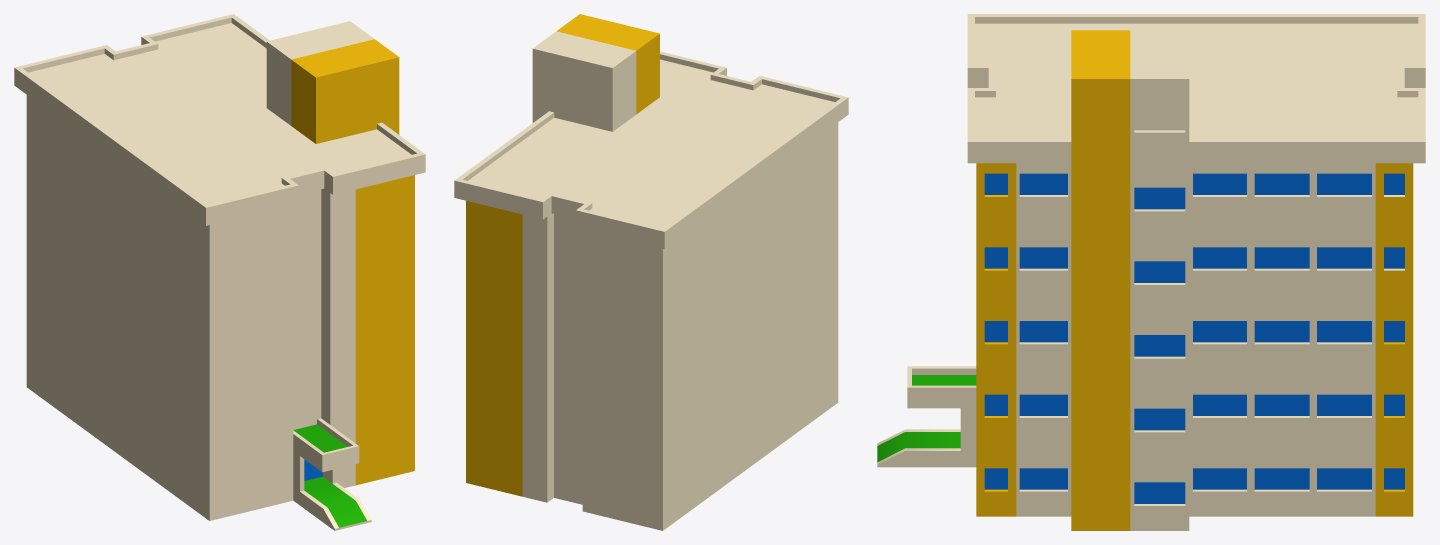
File: 학생회관.fbx
3 renders of one model, left to right at view 1: azimuth 30°, elevation 25°; view 2: azimuth 150°, elevation 25°; view 3: azimuth 270°, elevation 25°, orthographic. The views are drawn at different scales.
Visible parts, largest first — view 1: 학생회관_3, Cube_31; view 2: 학생회관_3, Cube_31; view 3: 학생회관_3, Cube_31, Cube_53, Cube_56.
Boxes of the visible parts, left/top/right/bottom form: 학생회관_3: left=26, top=21, right=414, bottom=530; Cube_31: left=14, top=14, right=425, bottom=225; 학생회관_3: left=466, top=14, right=838, bottom=530; Cube_31: left=454, top=51, right=848, bottom=248; 학생회관_3: left=877, top=30, right=1413, bottom=530; Cube_31: left=967, top=14, right=1425, bottom=163; Cube_53: left=984, top=173, right=1404, bottom=489; Cube_56: left=1134, top=187, right=1185, bottom=503.
Size of the model in its own units: 317 by 485 by 533.
